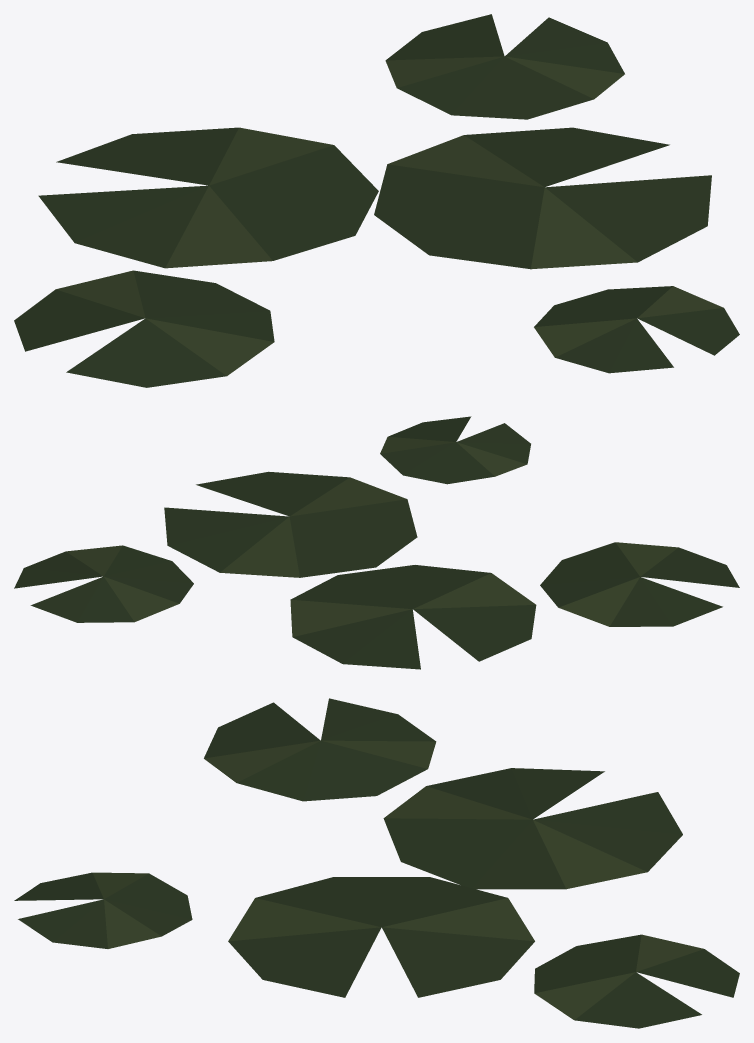
3 views of the same model, one above another, from view 1: azimuth 30°, elevation 25°; view 2: azimuth 150°, elevation 25°; view 3: azimuth 270°, elevation 25° (orthographic). The views are drawn at different scales.
Visible parts, largest first — view 1: Notched floating lily; view 2: Notched floating lily; view 3: Notched floating lily.
Boxes of the visible parts, x1,y1,x2,y2 form: Notched floating lily: (14, 14, 739, 387); Notched floating lily: (14, 416, 739, 669); Notched floating lily: (14, 698, 739, 1028).
Bounding box in the file's own units: 2.14 × 0.035 × 2.01.
